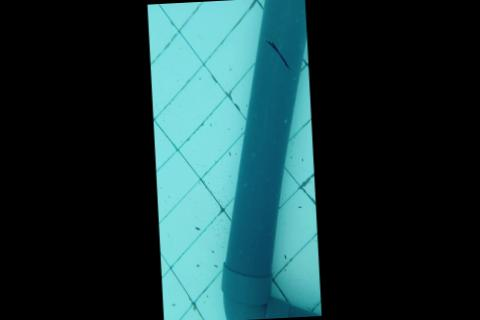keretakan: (264, 37, 291, 73)
